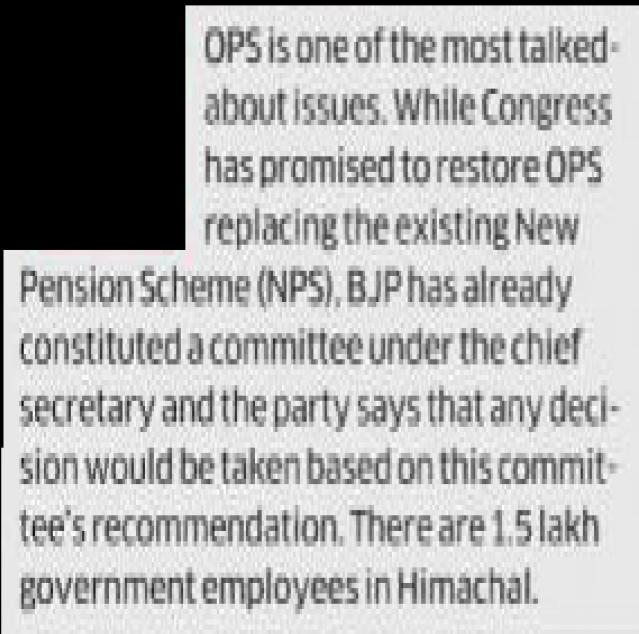paper: (0, 1, 639, 633)
